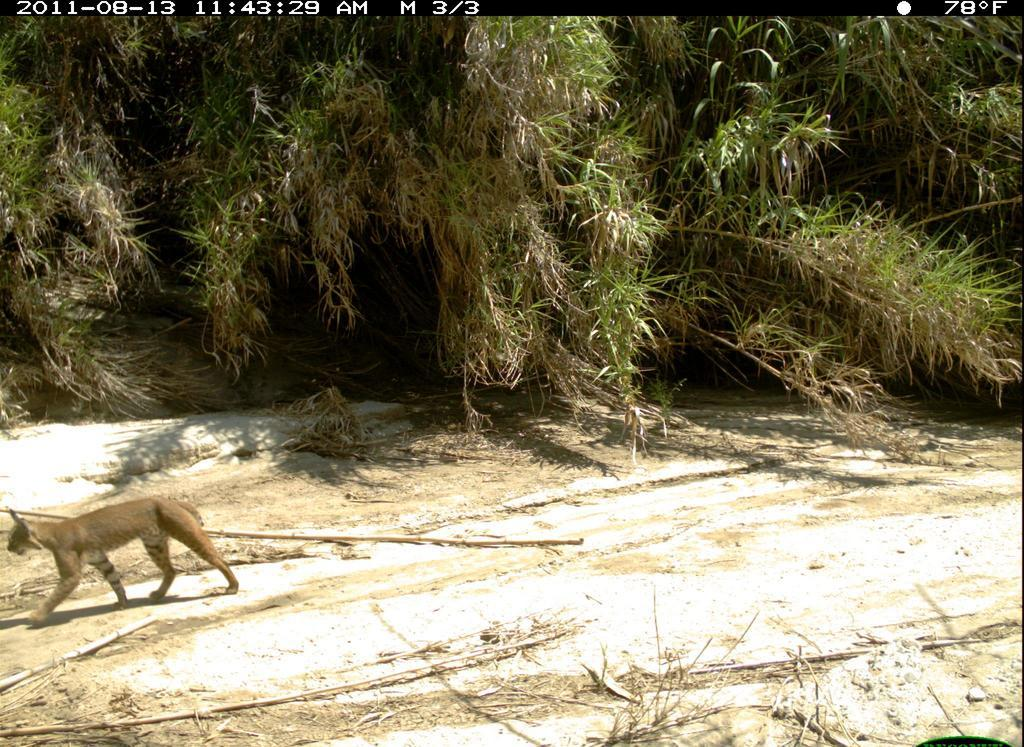bobcat: (8, 496, 240, 629)
